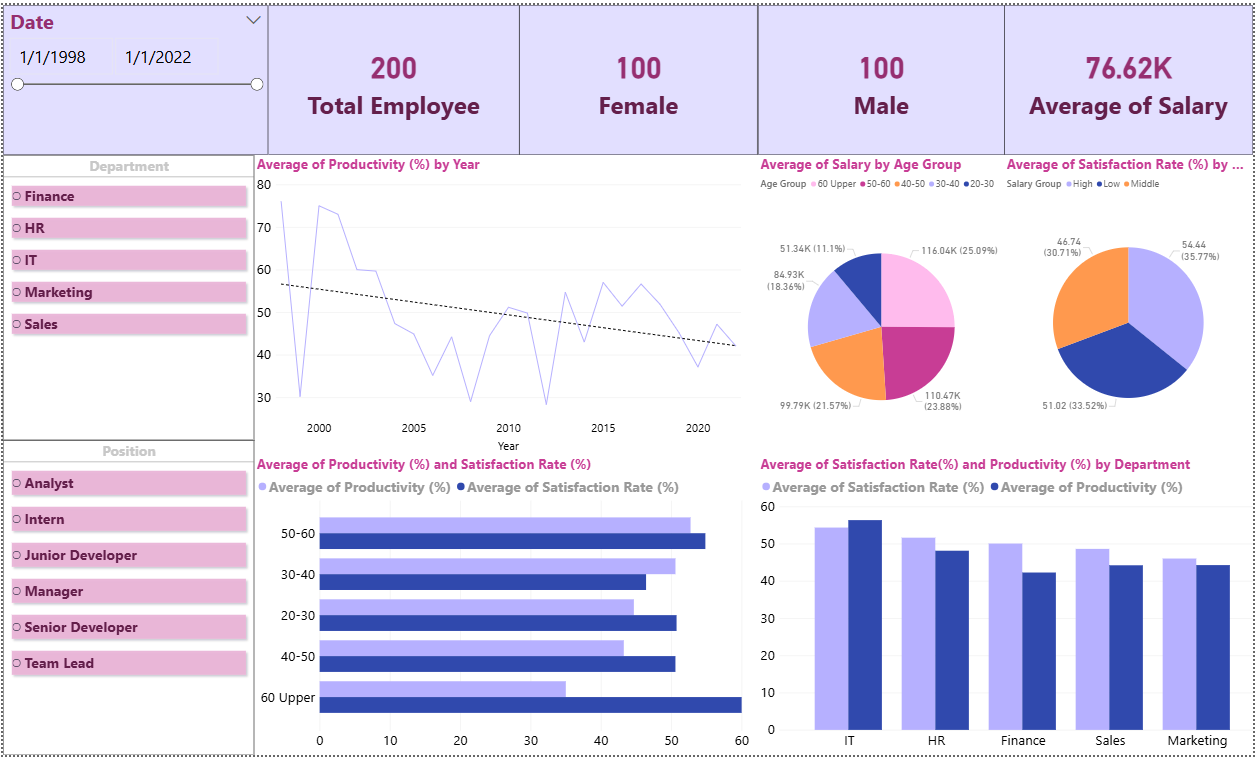

The page's visual inventory and layout, read from the dashboard file:
{"tool":"powerbi","page":{"name":"Page 1","canvas":[2500,1500],"ordinal":0},"visuals":[{"type":"clusteredColumnChart","title":"Average of Satisfaction Rate(%) and Productivity (%) by Department","fields":{"Category":["hr_dashboard_data_clean.Department"],"Y":["Avg(hr_dashboard_data_clean.Satisfaction Rate (%))","Avg(hr_dashboard_data_clean.Productivity (%))"]},"box":[1510,900,1023.3,600],"z":0},{"type":"lineChart","fields":{"Category":["hr_dashboard_data_clean.Joining Date.Variation.Date Hierarchy.Year","hr_dashboard_data_clean.Joining Date.Variation.Date Hierarchy.Quarter","hr_dashboard_data_clean.Joining Date.Variation.Date Hierarchy.Month","hr_dashboard_data_clean.Joining Date.Variation.Date Hierarchy.Day"],"Y":["Avg(hr_dashboard_data_clean.Productivity (%))"]},"box":[503.3,300,993.3,600],"z":1000},{"type":"card","fields":{"Values":["Count(hr_dashboard_data_clean.Name)"]},"box":[530,0,503.3,300],"z":2000},{"type":"card","fields":{"Values":["hr_dashboard_data_clean.Male"]},"box":[1510,0,493.3,300],"z":3000},{"type":"card","fields":{"Values":["hr_dashboard_data_clean.Female"]},"box":[1033.3,0,476.7,300],"z":4000},{"type":"clusteredBarChart","title":"Average of Productivity (%) and Satisfaction Rate (%)","fields":{"Category":["hr_dashboard_data_clean.Age Group"],"Y":["Avg(hr_dashboard_data_clean.Productivity (%))","Avg(hr_dashboard_data_clean.Satisfaction Rate (%))"]},"box":[501.7,900,995,600],"z":5000},{"type":"card","fields":{"Values":["Avg(hr_dashboard_data_clean.Salary)"]},"box":[2002.5,0,497.5,300],"z":6000},{"type":"listSlicer","title":"Department","fields":{"Values":["hr_dashboard_data_clean.Department"]},"box":[0,300,502.5,570],"z":7000},{"type":"slicer","fields":{"Values":["hr_dashboard_data_clean.Joining Date"]},"box":[0,0,530,300],"z":8000},{"type":"listSlicer","title":"Position","fields":{"Values":["hr_dashboard_data_clean.Position"]},"box":[0,870,502.5,630],"z":9000},{"type":"pieChart","fields":{"Category":["hr_dashboard_data_clean.Age Group"],"Y":["Avg(hr_dashboard_data_clean.Salary)"]},"box":[1510,300,493.3,616.7],"z":10000},{"type":"pieChart","fields":{"Category":["hr_dashboard_data_clean.Salary Group"],"Y":["Avg(hr_dashboard_data_clean.Satisfaction Rate (%))"]},"box":[2003.3,300,496.7,600],"z":11001}]}

Visuals, with their boxes in screenshot pixels (x1, y1, x2, y2), scaled from the page's 2500x1500 canvas onto the 1256x758 screenshot:
"Average of Satisfaction Rate(%) and Productivity (%) by Department" clusteredColumnChart: bbox(759, 455, 1255, 757)
lineChart - hr_dashboard_data_clean.Joining Date.Variation.Date Hierarchy.Year x hr_dashboard_data_clean.Joining Date.Variation.Date Hierarchy.Quarter: bbox(253, 152, 752, 455)
card - Count(hr_dashboard_data_clean.Name): bbox(266, 0, 519, 152)
card - hr_dashboard_data_clean.Male: bbox(759, 0, 1006, 152)
card - hr_dashboard_data_clean.Female: bbox(519, 0, 759, 152)
"Average of Productivity (%) and Satisfaction Rate (%)" clusteredBarChart: bbox(252, 455, 752, 757)
card - Avg(hr_dashboard_data_clean.Salary): bbox(1006, 0, 1255, 152)
"Department" listSlicer: bbox(0, 152, 252, 440)
slicer - hr_dashboard_data_clean.Joining Date: bbox(0, 0, 266, 152)
"Position" listSlicer: bbox(0, 440, 252, 757)
pieChart - hr_dashboard_data_clean.Age Group x Avg(hr_dashboard_data_clean.Salary): bbox(759, 152, 1006, 463)
pieChart - hr_dashboard_data_clean.Salary Group x Avg(hr_dashboard_data_clean.Satisfaction Rate (%)): bbox(1006, 152, 1255, 455)
